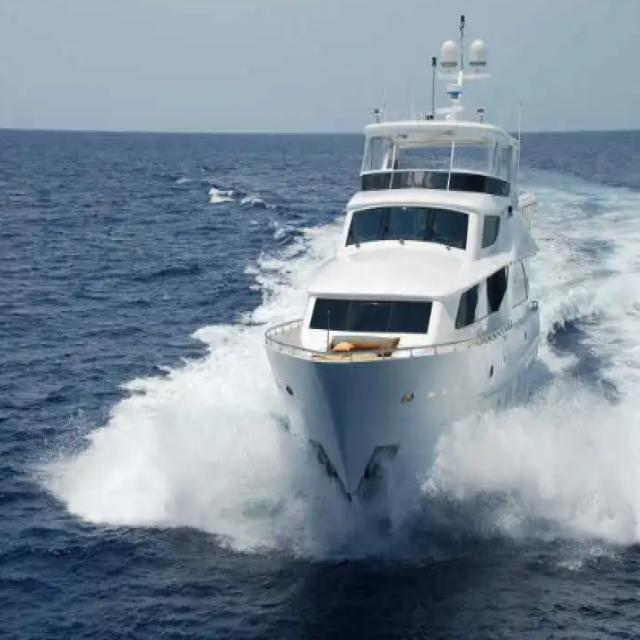houseboat: (252, 17, 551, 554)
